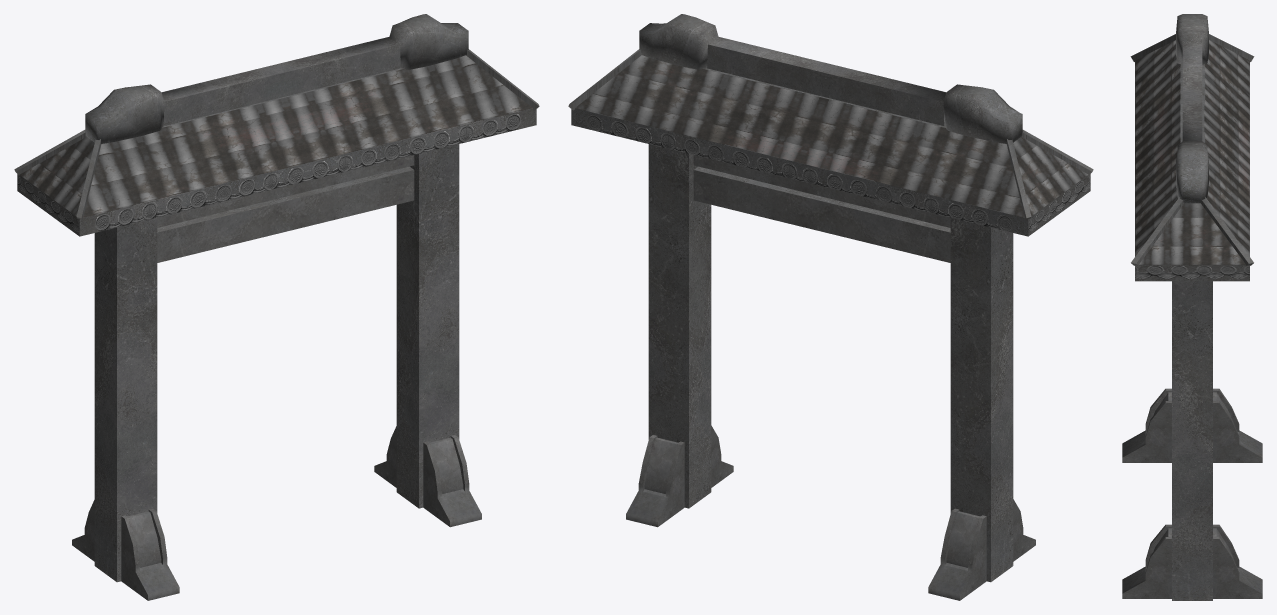
The model's file is Shipai_2.FBX.
3 views of the same model, side by side, from view 1: azimuth 30°, elevation 25°; view 2: azimuth 150°, elevation 25°; view 3: azimuth 270°, elevation 25° (orthographic). The views are drawn at different scales.
Parts seen in each view (by area): view 1: Shipai_2; view 2: Shipai_2; view 3: Shipai_2.
Part boxes in pixels (x1=…): Shipai_2: x1=14, y1=14, x2=539, y2=600; Shipai_2: x1=568, y1=14, x2=1093, y2=600; Shipai_2: x1=1122, y1=14, x2=1262, y2=600.
Bounding box in the file's own units: 91.54 × 90.27 × 26.06.
